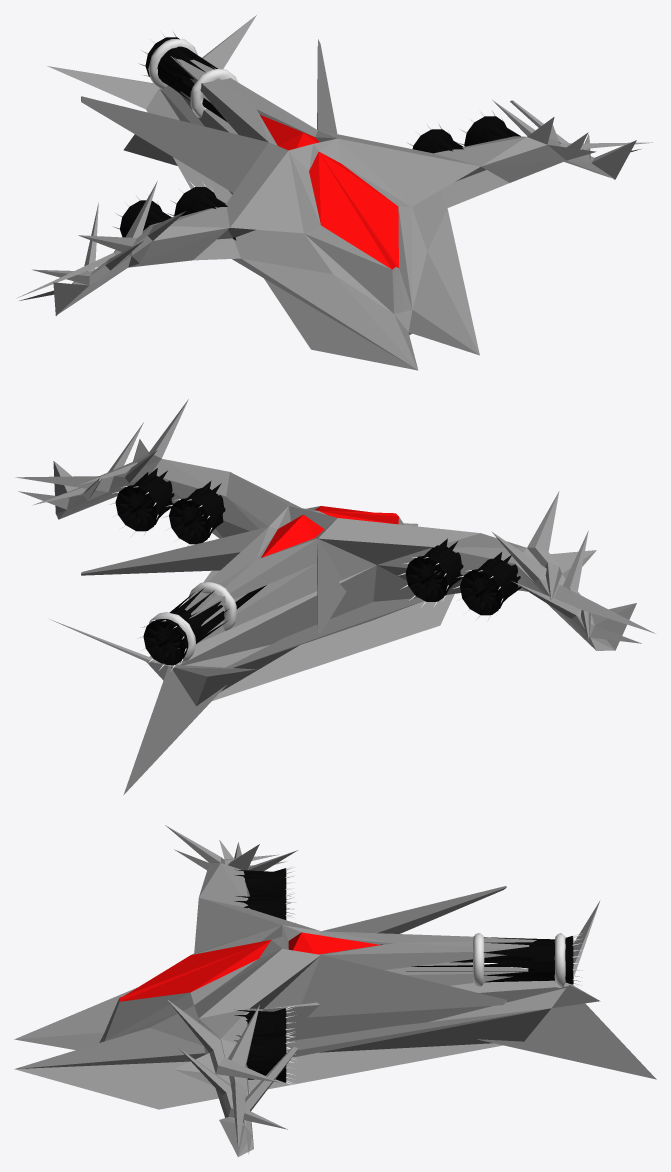
File: Carrier Sapphire.FBX
3 views of the same model, one above another, from view 1: azimuth 30°, elevation 25°; view 2: azimuth 150°, elevation 25°; view 3: azimuth 270°, elevation 25° (orthographic).
Visible parts, largest first — view 1: Hedra001, Torus006, Torus010, Torus008, Torus009, Torus011, Torus007, Torus005; view 2: Hedra001, Torus006, Torus011, Torus010, Torus008, Torus009, Torus007, Torus005; view 3: Hedra001, Torus006, Torus010, Torus011, Torus009, Torus008, Torus007, Torus005.
Boxes of the visible parts, <box> form: Hedra001: <box>16,15,652,370</box>; Torus006: <box>138,31,227,122</box>; Torus010: <box>457,110,520,146</box>; Torus008: <box>167,181,236,240</box>; Torus009: <box>406,123,463,153</box>; Torus011: <box>112,194,171,237</box>; Torus007: <box>190,68,237,117</box>; Torus005: <box>148,39,197,89</box>; Hedra001: <box>15,399,655,795</box>; Torus006: <box>136,585,266,670</box>; Torus011: <box>453,552,521,621</box>; Torus010: <box>108,468,174,537</box>; Torus008: <box>398,538,463,607</box>; Torus009: <box>162,481,225,546</box>; Torus007: <box>188,581,236,630</box>; Torus005: <box>149,612,195,663</box>; Hedra001: <box>14,825,656,1156</box>; Torus006: <box>380,933,582,987</box>; Torus010: <box>234,1031,296,1085</box>; Torus011: <box>235,865,296,919</box>; Torus009: <box>234,1005,295,1059</box>; Torus008: <box>234,891,295,922</box>; Torus007: <box>473,933,484,986</box>; Torus005: <box>554,933,565,987</box>.
Bounding box in the file's own units: 89.49 × 25.93 × 78.57.
